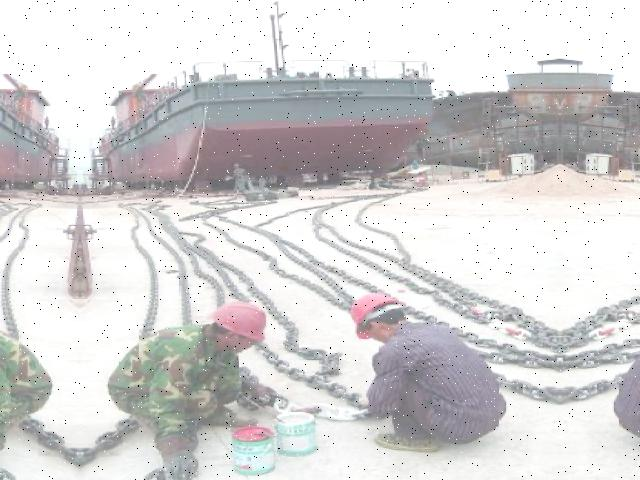Helmet: (208, 299, 272, 350), (349, 290, 410, 343)
